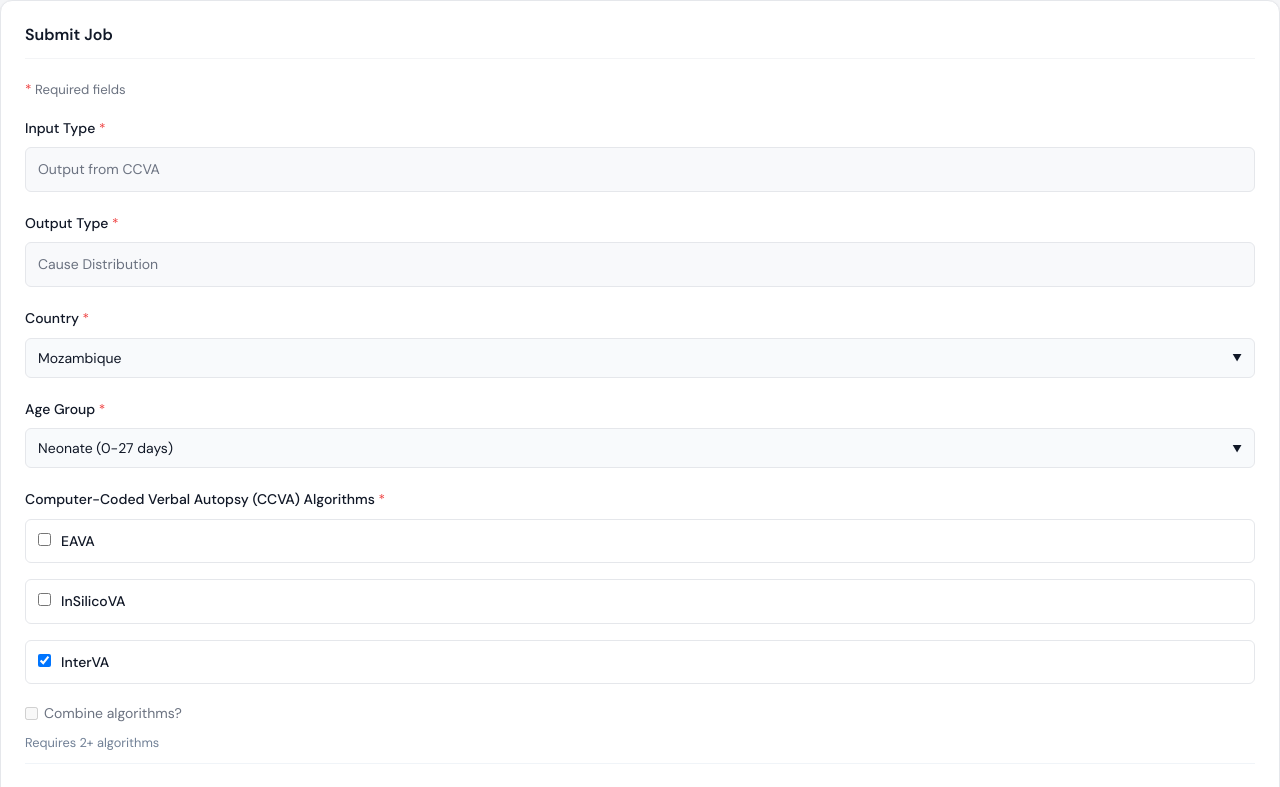
Test: Calibration Only — algorithms-first flow › auto-enables ensemble when user crosses from 1 to 2 algorithms
Check: the checkbox labelled "Combine algorithms?" is not checked, box [25,707,38,720]
Click the checkbox labelled "InSilicoVA". click: (44, 600)
box: [38,594,51,606]
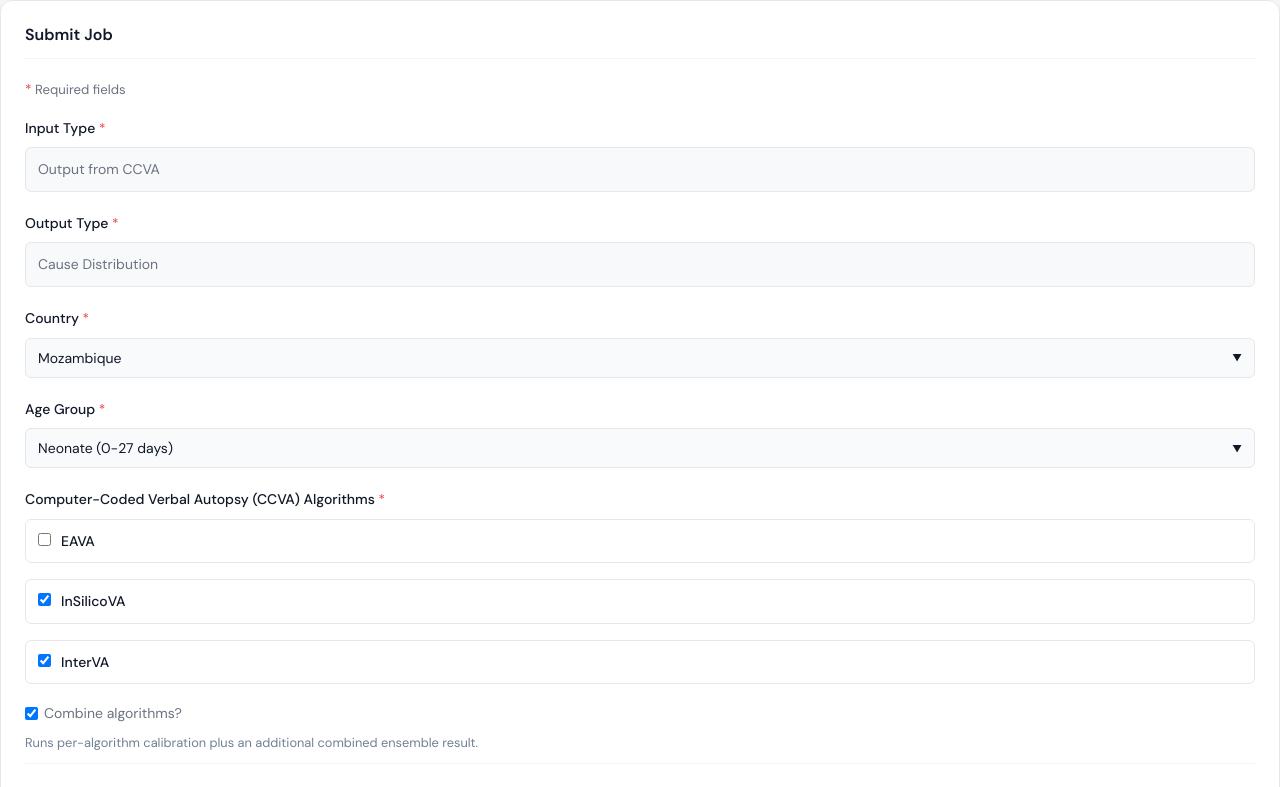
Check: the checkbox labelled "Combine algorithms?" is enabled, box [25,707,38,720]
Check: the checkbox labelled "Combine algorithms?" is checked, box [25,707,38,720]
